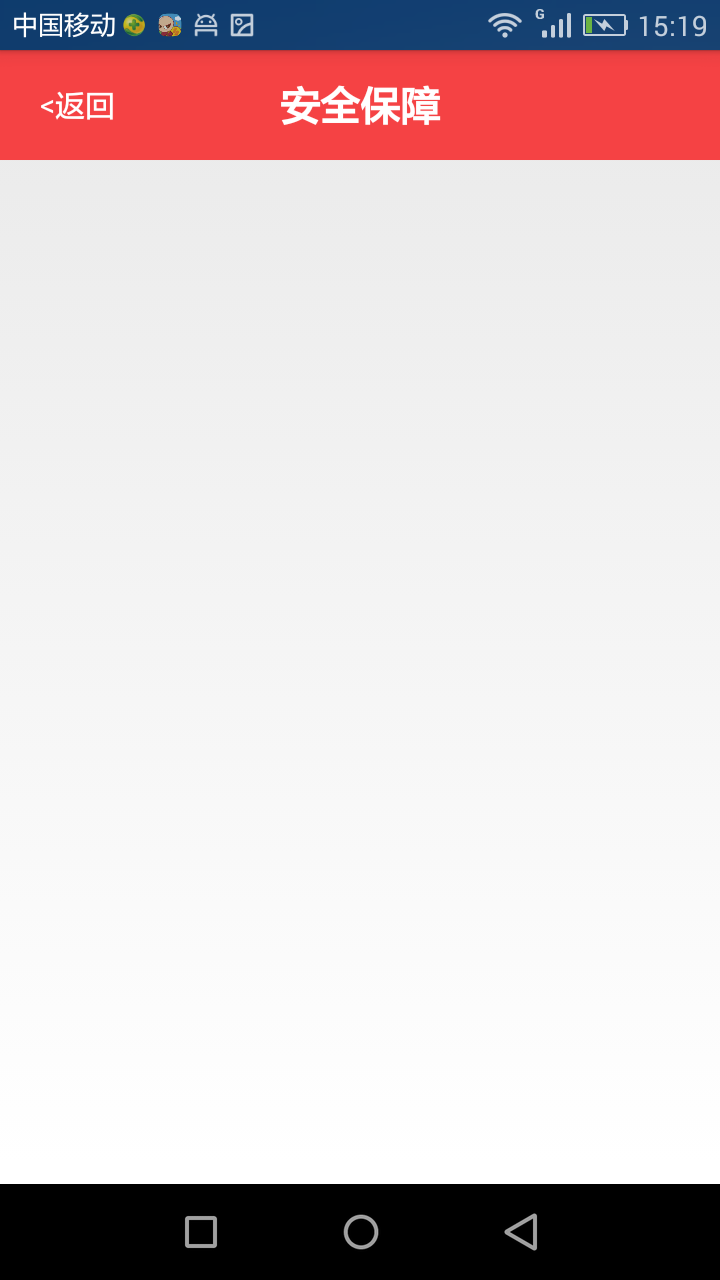button: (23, 75, 125, 133)
